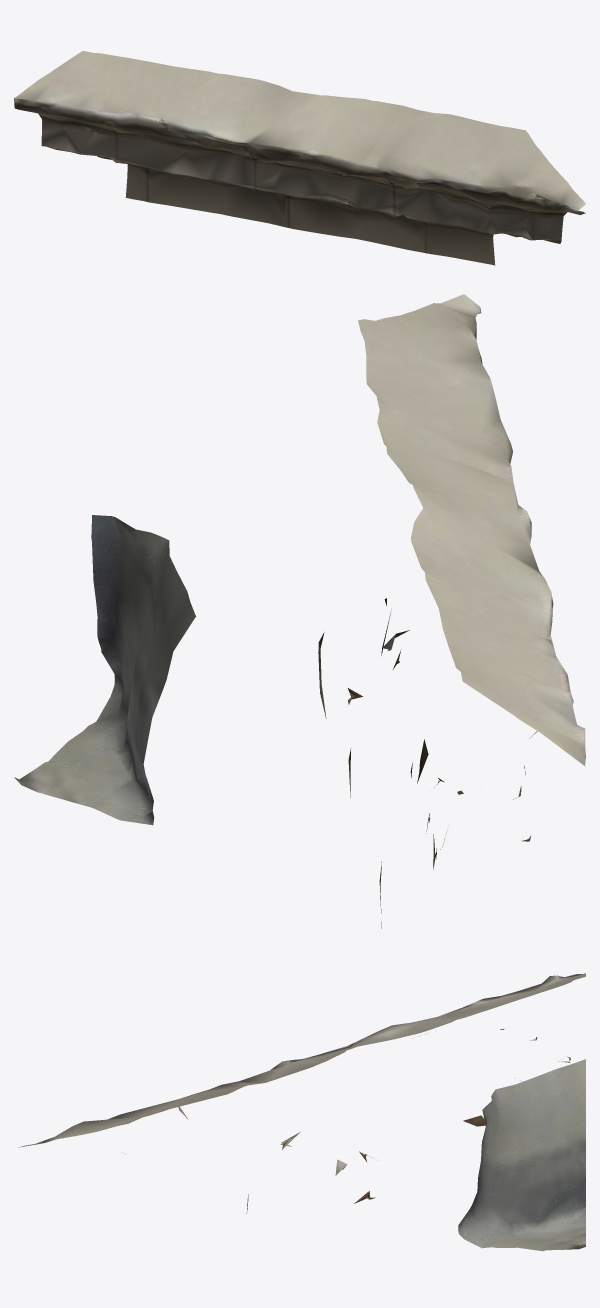
3 renders of one model, top to bottom at view 1: azimuth 30°, elevation 25°; view 2: azimuth 150°, elevation 25°; view 3: azimuth 270°, elevation 25°, orthographic. The views are drawn at different scales.
Size of the model in its own units: 2.65 by 1.25 by 3.62.
Materials: 1 (1 with a texture image).
